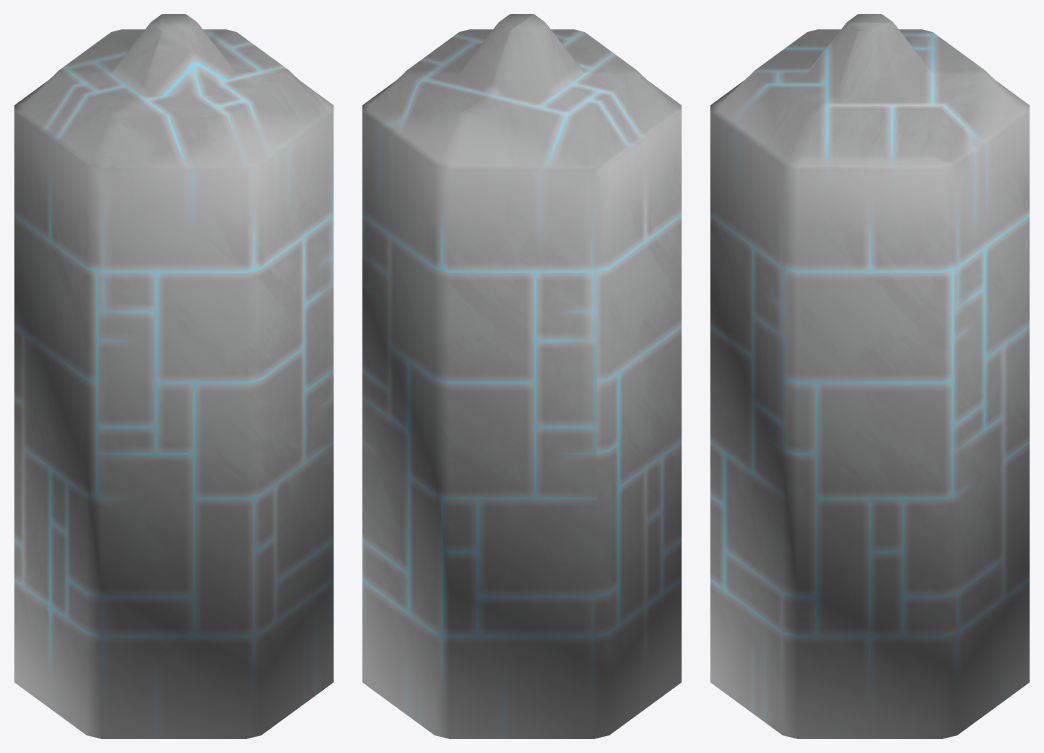
File: TorchPalace.fbx
The picture shows the model from 3 angles, left to right: view 1: azimuth 30°, elevation 25°; view 2: azimuth 150°, elevation 25°; view 3: azimuth 270°, elevation 25°; orthographic projection.
Visible parts, largest first — view 1: TorchPalace; view 2: TorchPalace; view 3: TorchPalace.
Part boxes in pixels (left/top/right/bottom): TorchPalace: left=14, top=14, right=333, bottom=738; TorchPalace: left=362, top=14, right=681, bottom=738; TorchPalace: left=710, top=14, right=1029, bottom=738.
Bounding box in the file's own units: 27.09 × 68.71 × 30.34.
